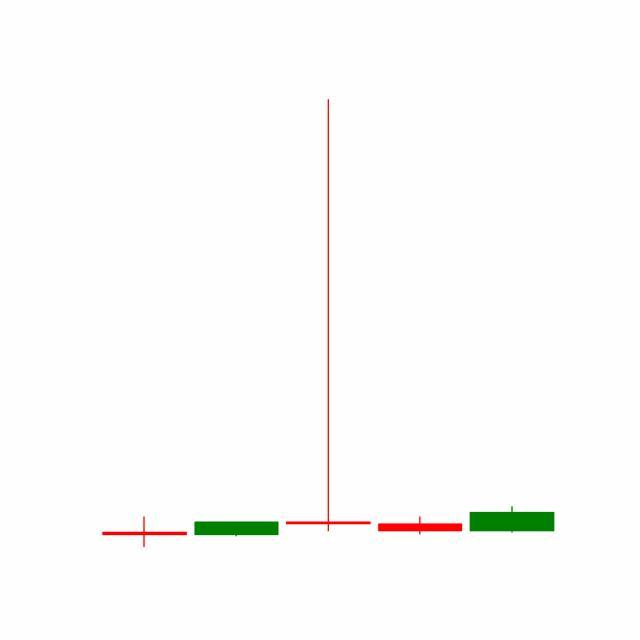Marubozu: (466, 506, 559, 534)
